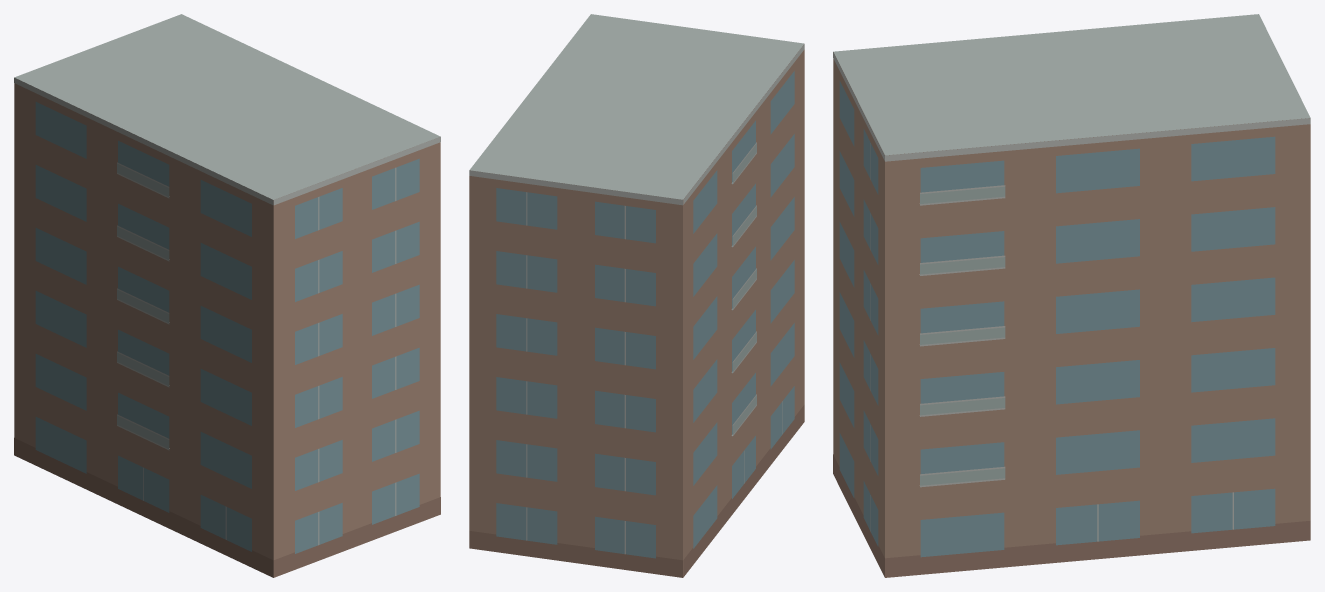
Rendered from survey-upis-33040937.glb.
The picture shows the model from 3 angles, left to right: view 1: azimuth 30°, elevation 25°; view 2: azimuth 150°, elevation 25°; view 3: azimuth 270°, elevation 25°; orthographic projection. The views are drawn at different scales.
Visible parts, largest first — view 1: survey-upis-33040937.tmp; view 2: survey-upis-33040937.tmp; view 3: survey-upis-33040937.tmp.
Part boxes in pixels (x1,y1,x2,y2): survey-upis-33040937.tmp: (14,14,440,577); survey-upis-33040937.tmp: (469,14,804,577); survey-upis-33040937.tmp: (833,14,1310,577).
Bounding box in the file's own units: 11.93 × 16.6 × 17.01.
